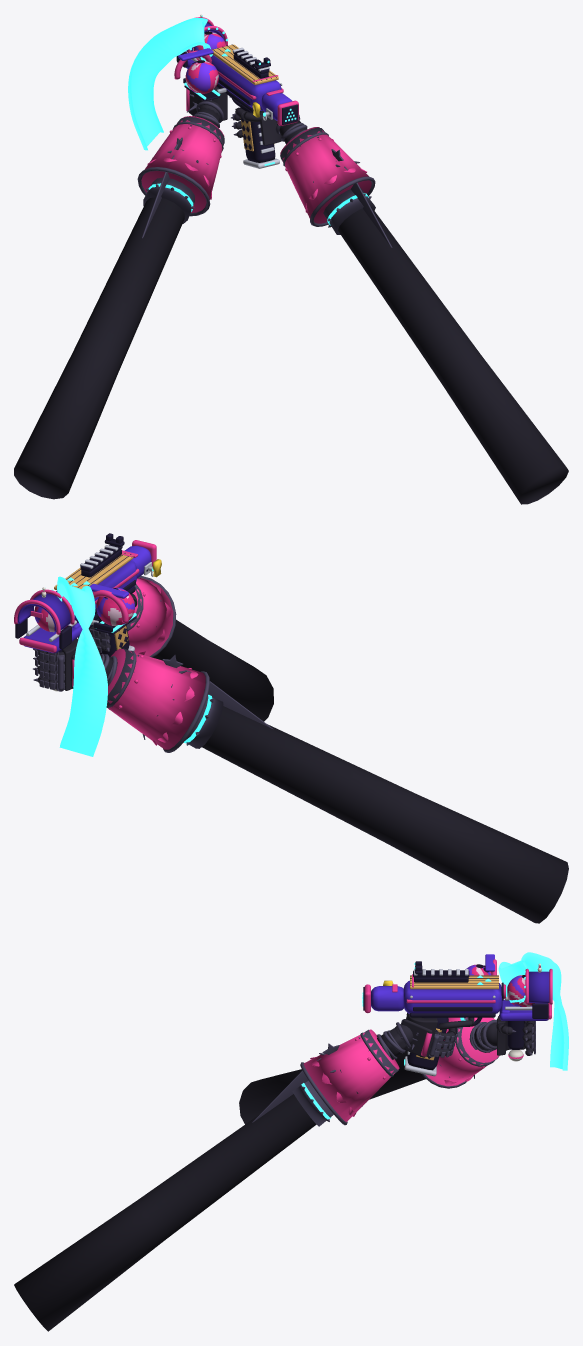
The model's file is strike_zone.glb.
The picture shows the model from 3 angles, top to bottom: view 1: azimuth 30°, elevation 25°; view 2: azimuth 150°, elevation 25°; view 3: azimuth 270°, elevation 25°; orthographic projection. The views are drawn at different scales.
Parts seen in each view (by area): view 1: ArmR, ArmL, Shell, ArmRKitBell, ArmLKitBell, RailHolo, Spare; view 2: ArmL, Shell, ArmLKitBell, RailHolo, ArmR, ArmRKitBell, ArmLKitGauntlet, Spare, ArmLKitFins; view 3: ArmR, Shell, ArmRKitBell, ArmL, RailHolo, ArmLKitBell, ArmRKitGauntlet, ArmRKitMitten, ArmRKitFins, Ball.
Part boxes in pixels (box(x1,y1,x2,y2)): ArmR: box(234, 107, 568, 504); ArmL: box(14, 86, 227, 499); Shell: box(174, 17, 298, 168); ArmRKitBell: box(280, 127, 375, 226); ArmLKitBell: box(137, 116, 224, 216); RailHolo: box(128, 17, 212, 150); Spare: box(185, 60, 218, 93); ArmL: box(36, 638, 568, 923); Shell: box(14, 540, 156, 691); ArmLKitBell: box(106, 648, 209, 752); RailHolo: box(57, 576, 107, 756); ArmR: box(89, 593, 273, 721); ArmRKitBell: box(127, 576, 176, 657); ArmLKitGauntlet: box(35, 648, 143, 709); Spare: box(96, 587, 134, 626); ArmLKitFins: box(185, 670, 273, 729); ArmR: box(14, 1012, 474, 1331); Shell: box(362, 954, 552, 1076); ArmRKitBell: box(300, 1029, 399, 1125); ArmL: box(239, 1016, 533, 1124); RailHolo: box(498, 952, 568, 1070); ArmLKitBell: box(422, 1017, 498, 1088); ArmRKitGauntlet: box(355, 1019, 458, 1079); ArmRKitMitten: box(402, 1019, 432, 1057); ArmRKitFins: box(252, 1038, 417, 1122); Ball: box(507, 975, 534, 1006).
Bounding box in the file's own units: 1.48 × 1.1 × 1.68.
